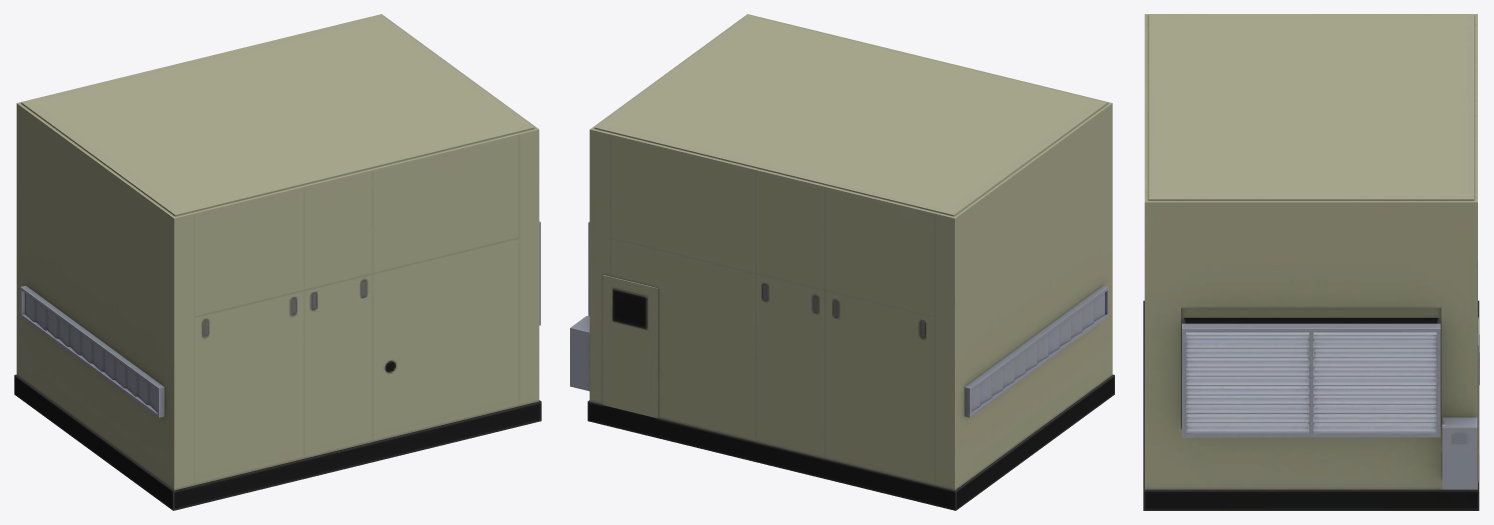
3 views of the same model, side by side, from view 1: azimuth 30°, elevation 25°; view 2: azimuth 150°, elevation 25°; view 3: azimuth 270°, elevation 25° (orthographic). The views are drawn at different scales.
Parts seen in each view (by area): view 1: Utility_1F_Air_Pressure150HP_01; view 2: Utility_1F_Air_Pressure150HP_01; view 3: Utility_1F_Air_Pressure150HP_01.
Boxes of the visible parts, box(x1,y1,x2,y2) form: Utility_1F_Air_Pressure150HP_01: box(14, 14, 541, 510); Utility_1F_Air_Pressure150HP_01: box(570, 14, 1114, 510); Utility_1F_Air_Pressure150HP_01: box(1143, 14, 1479, 510).
Size of the model in its own units: 0.4927 by 0.3524 by 0.3472.
1 material, 1 textured.
